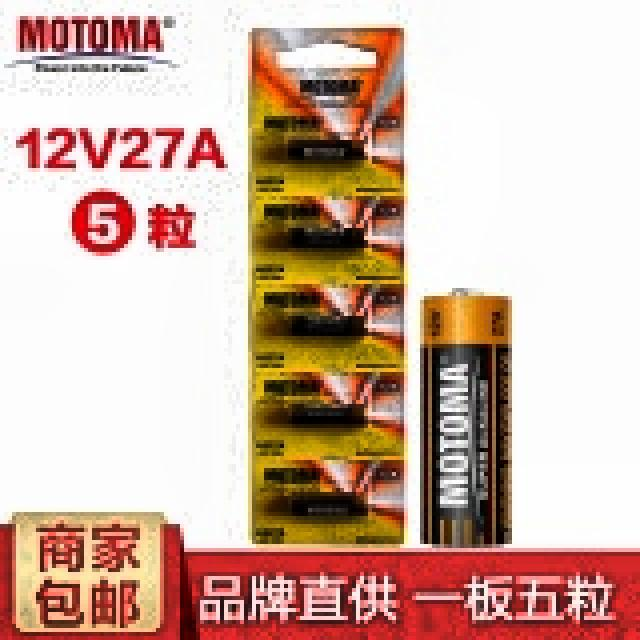Non-Valuable Waste - Batteries: (424, 296, 510, 545)
